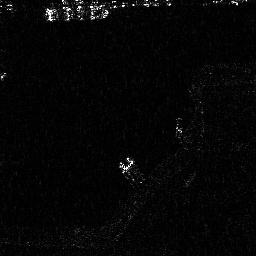ship: (40, 4, 108, 22)
